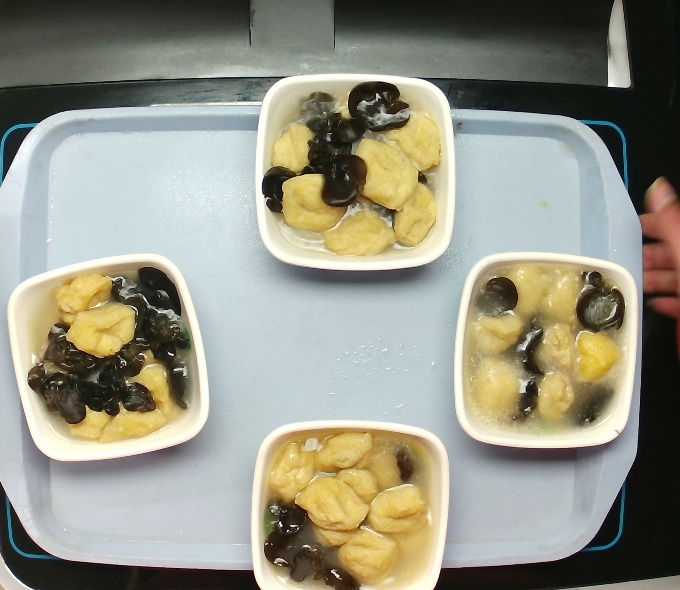wcq-MuErYouPaoTang: (259, 80, 455, 265), (22, 260, 196, 449), (454, 260, 642, 434), (265, 432, 430, 582)
